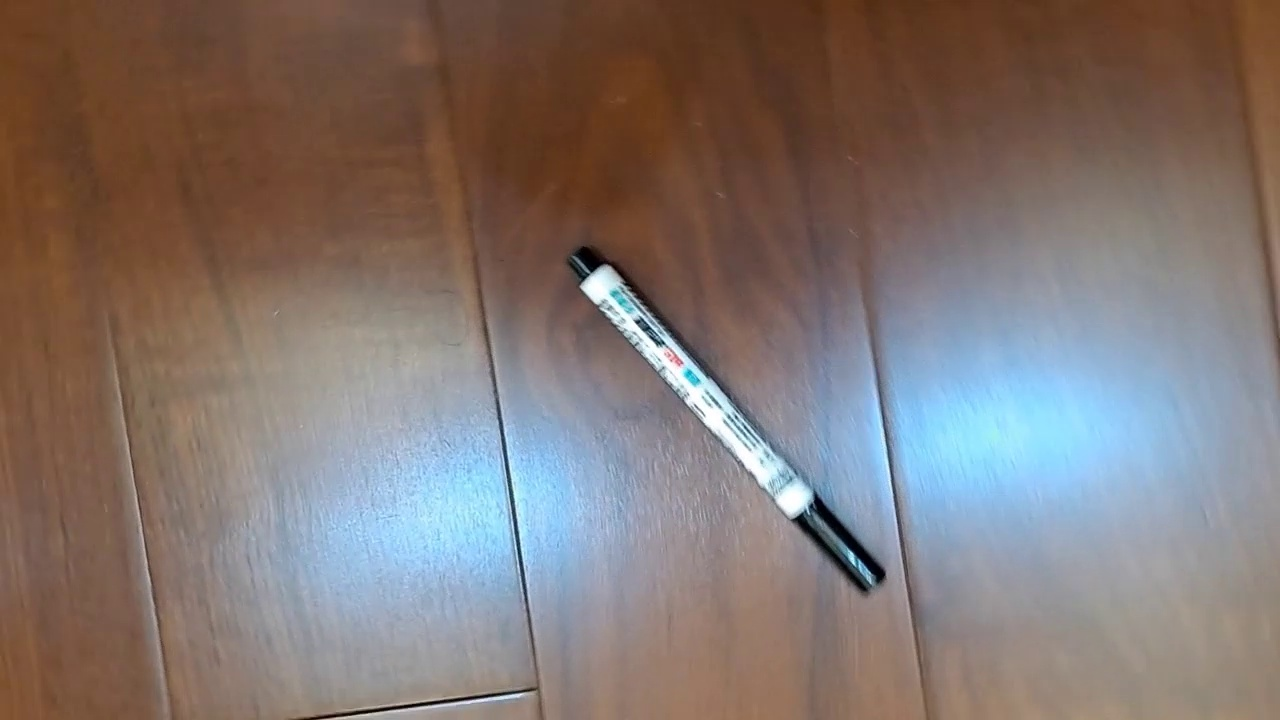pen: (564, 243, 888, 597)
